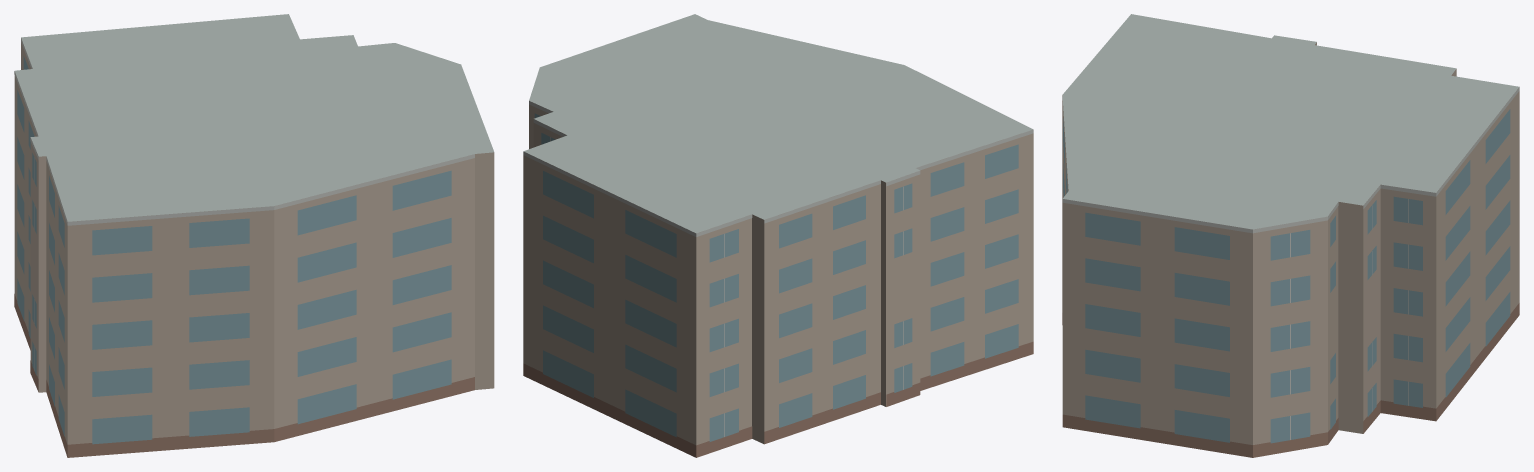
File: survey-upis-32824925.glb
3 renders of one model, left to right at view 1: azimuth 30°, elevation 25°; view 2: azimuth 150°, elevation 25°; view 3: azimuth 270°, elevation 25°, orthographic. The views are drawn at different scales.
Parts seen in each view (by area): view 1: survey-upis-32824925.tmp; view 2: survey-upis-32824925.tmp; view 3: survey-upis-32824925.tmp.
Part boxes in pixels (left/top/right/bottom): survey-upis-32824925.tmp: left=14, top=14, right=494, bottom=457; survey-upis-32824925.tmp: left=523, top=14, right=1033, bottom=457; survey-upis-32824925.tmp: left=1062, top=14, right=1519, bottom=457.
Size of the model in its own units: 29.35 by 14.5 by 26.31.
